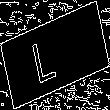L_N: (40, 26, 70, 84)
